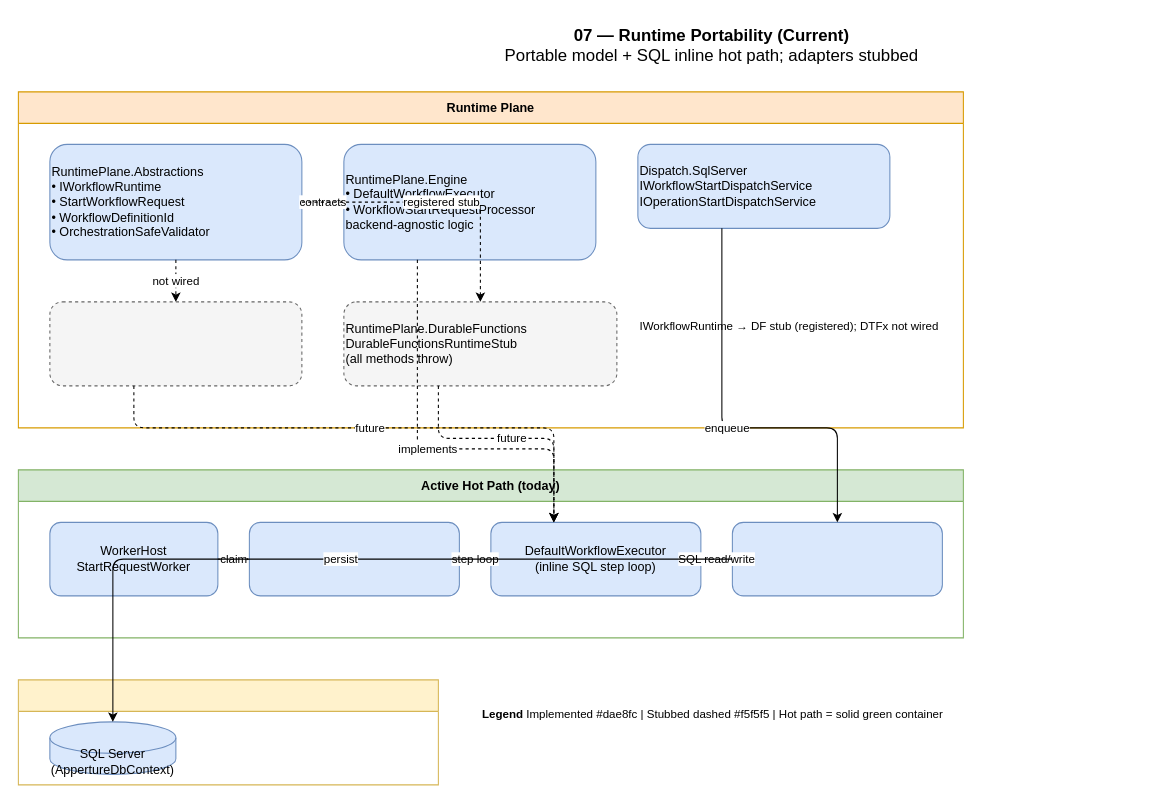
Some shapes in this 1150 by 803 pixel diagram are drawn without their labels. Here are the shapes that lost their labels. From the top down, the box of each, then its label:
(49, 301, 302, 386): RuntimePlane.DTFx DurableTaskRuntimeAdapterStub (empty stub)
(248, 521, 459, 596): WorkflowStartRequestProcessor
(731, 521, 942, 596): Persistence.SqlServer WorkflowInstances • StepInstances • Runs
(17, 679, 438, 785): Foundation
